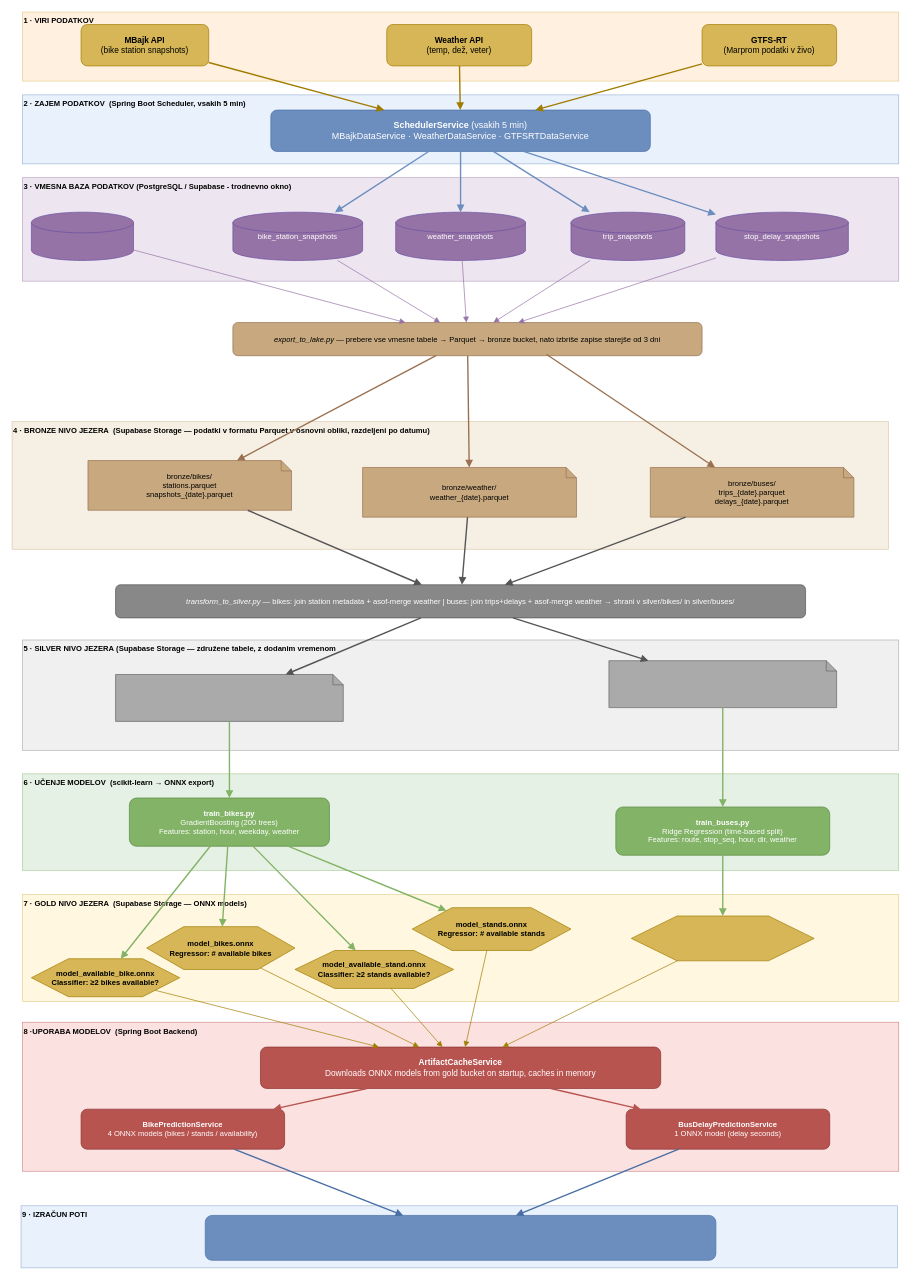
The diagram is 911 pixels wide and 1280 high, and some of its shapes have lost their labels. Here are the shapes that lost their labels. From the top down, the centre of each, then its label:
the point at 82,235: bike_stations (static)
the point at 229,697: silver/bikes/latest.parquet (station + availability + weather)
the point at 722,684: silver/buses/latest.parquet (delays + trips + weather)
the point at 722,938: model_bus_delay.onnx Regressor: delay in seconds
the point at 460,1237: ComputePathController →Časovno odvisen A* routing
